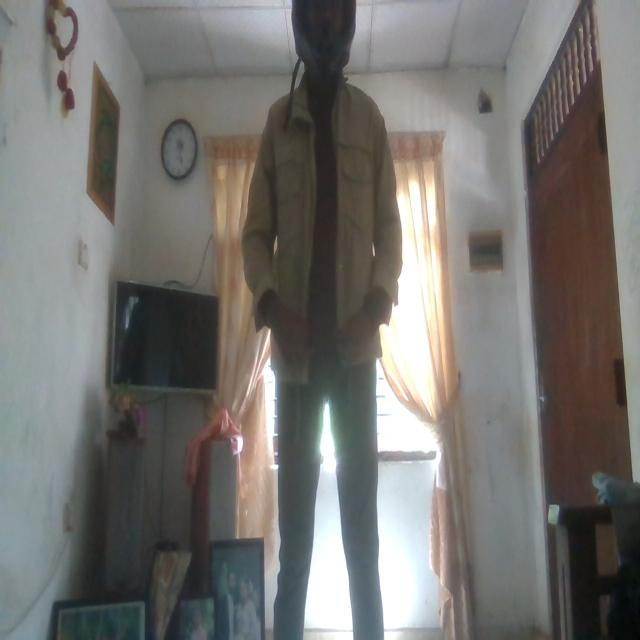Helmet_Wearer: (286, 0, 356, 84)
Jacket_Wearer: (242, 86, 403, 368)
Person: (248, 5, 398, 640)
